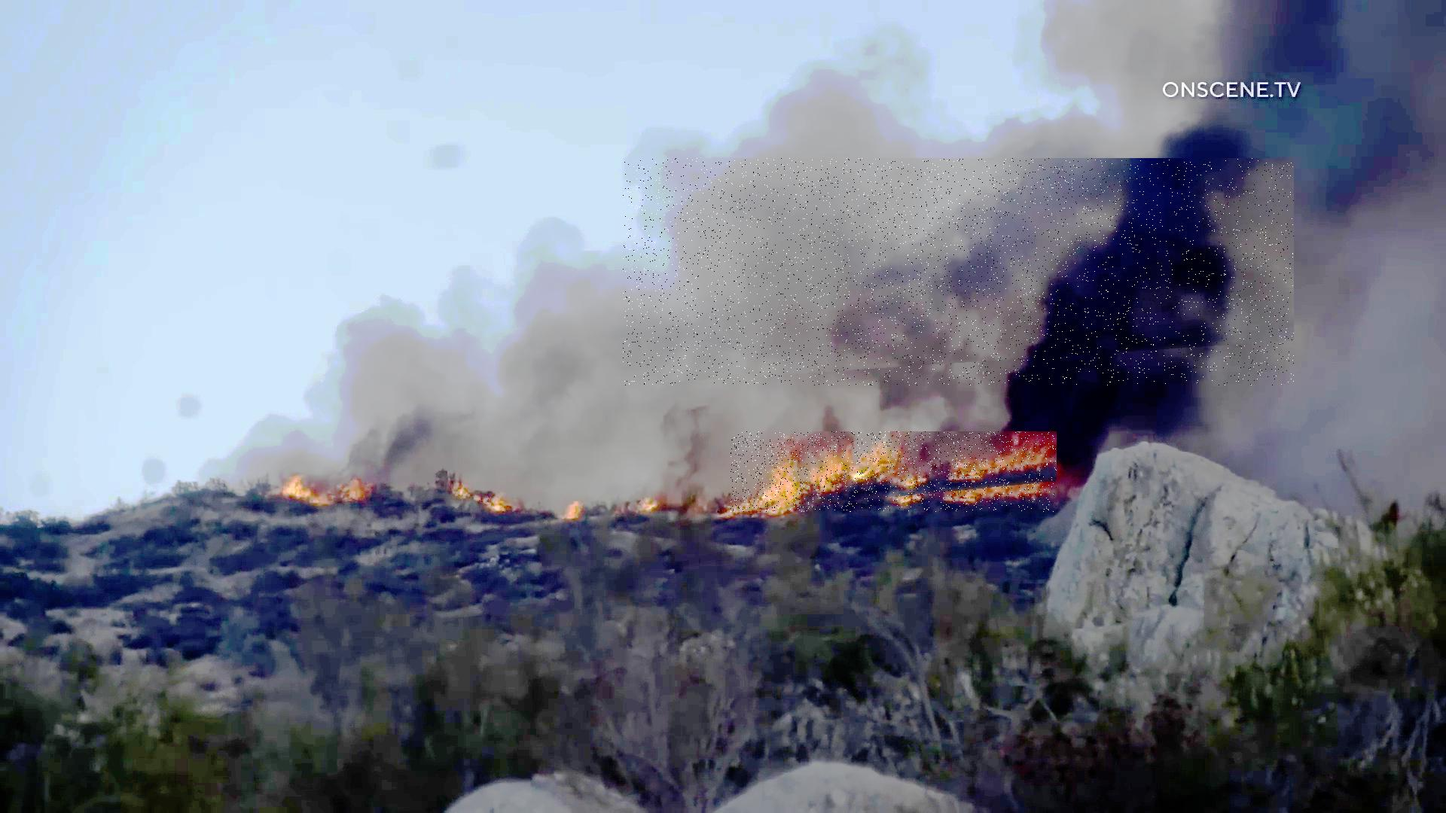fire: (731, 431, 1057, 512)
smoke: (623, 159, 1294, 386)
